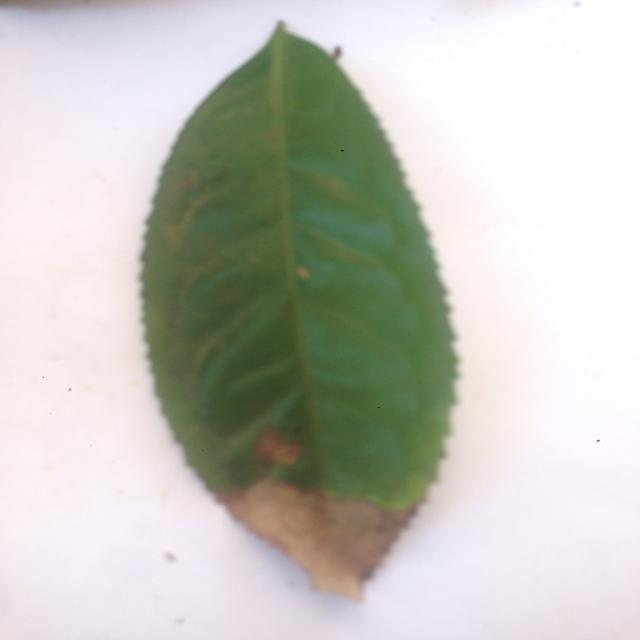Brown Blight: (140, 17, 472, 612)
